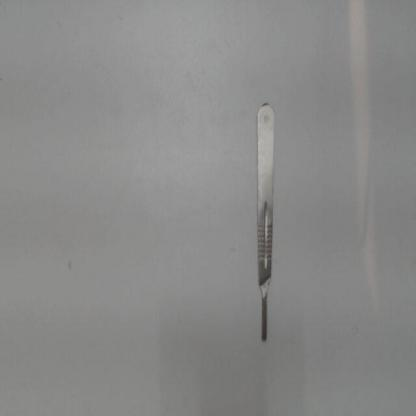No.4 BP Handle: (239, 86, 280, 354)
